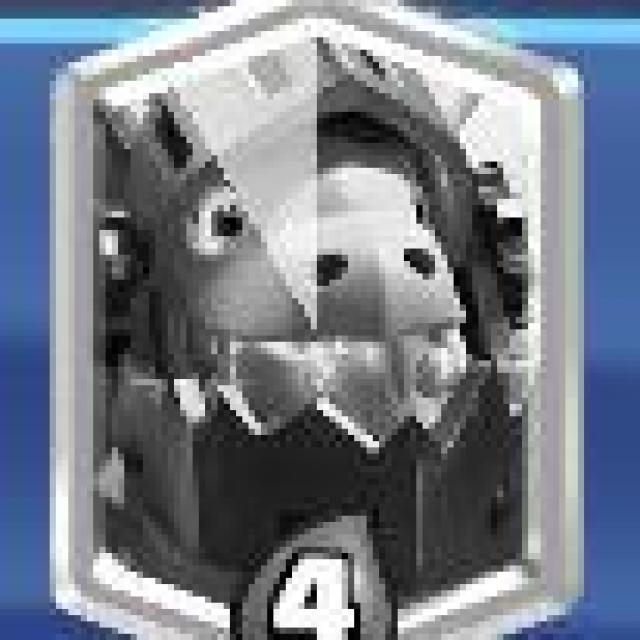Inferno_Dragon: (57, 0, 587, 640)
